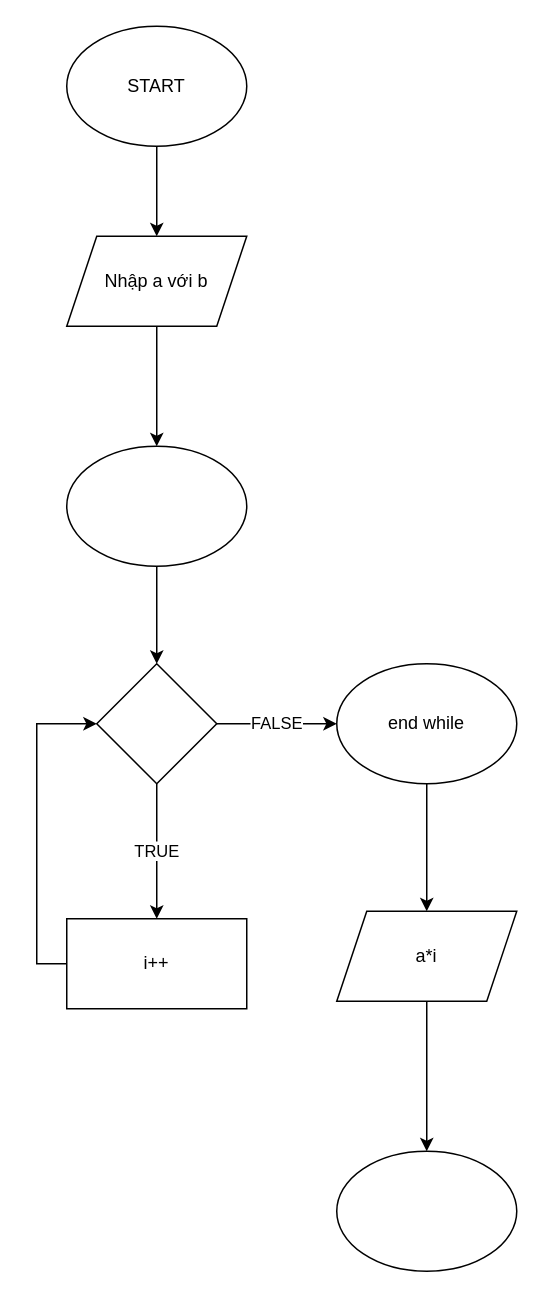
The diagram is 543 pixels wide and 1298 high, and some of its shapes have lost their labels. The shapes that lost their labels are listed below. From the top down, each one's box as (x1, y1, x2, y2) in pixels, then its label:
(65, 445, 247, 566): while
(95, 662, 217, 784): a*i %b != 0
(335, 1150, 517, 1271): END
